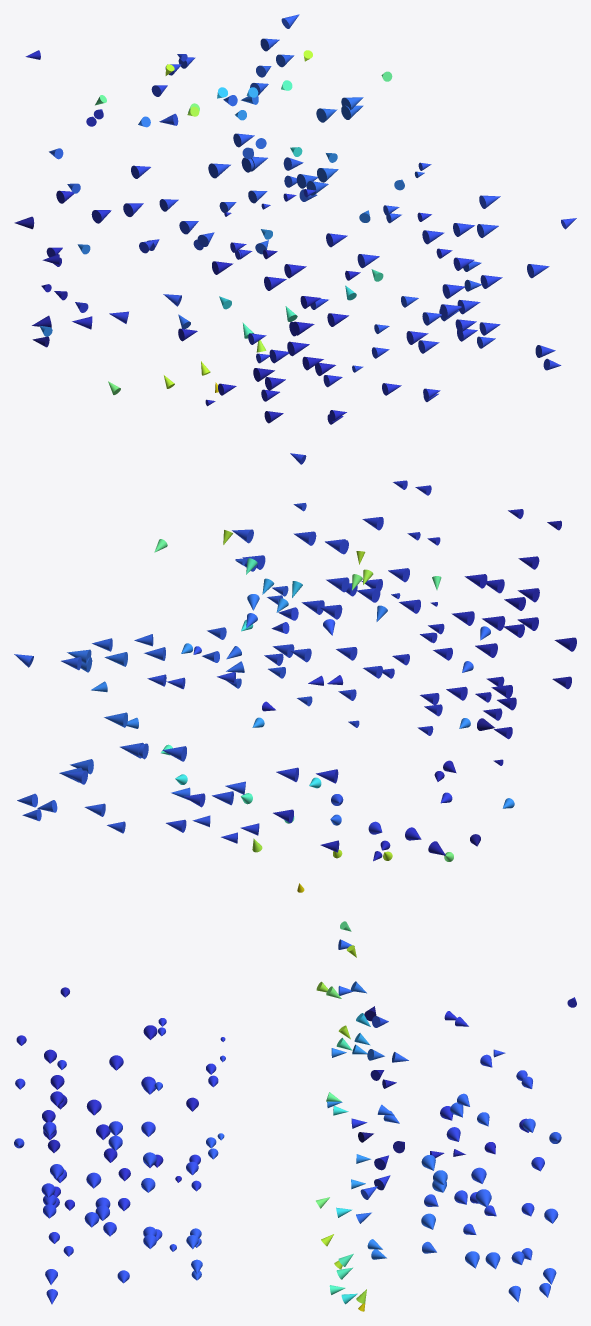
The model's file is LineasCorrienteN2-H2O_mh2-8.20_V-1.glb.
3 views of the same model, one above another, from view 1: azimuth 30°, elevation 25°; view 2: azimuth 150°, elevation 25°; view 3: azimuth 270°, elevation 25° (orthographic). The views are drawn at different scales.
Size of the model in its own units: 0.000968 by 0.000811 by 0.00122.
2 materials, 2 textured.
